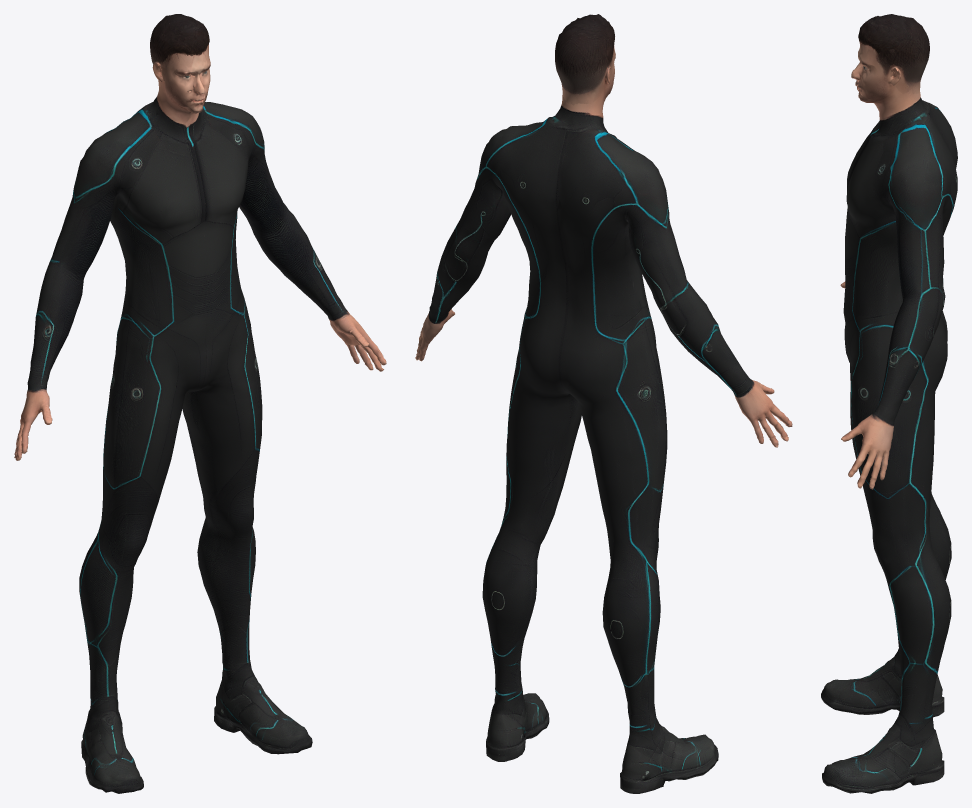
File: pilot-male.glb
3 renders of one model, left to right at view 1: azimuth 30°, elevation 25°; view 2: azimuth 150°, elevation 25°; view 3: azimuth 270°, elevation 25°, orthographic.
Visible parts, largest first — view 1: Mesh_0; view 2: Mesh_0; view 3: Mesh_0.
Part boxes in pixels (x1,y1,x2,y2): Mesh_0: (14,14,386,793); Mesh_0: (415,14,792,793); Mesh_0: (821,14,957,793).
Size of the model in its own units: 0.9457 by 1.8 by 0.3076.
Materials: 1 (1 with a texture image).
